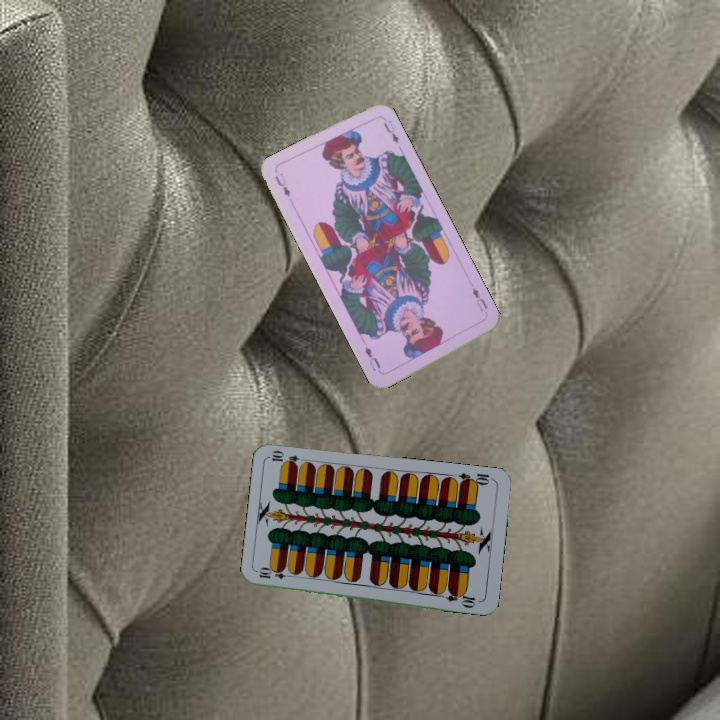E10: (455, 469, 496, 489), (255, 566, 296, 582)
EU: (270, 169, 293, 200), (468, 284, 490, 314)
